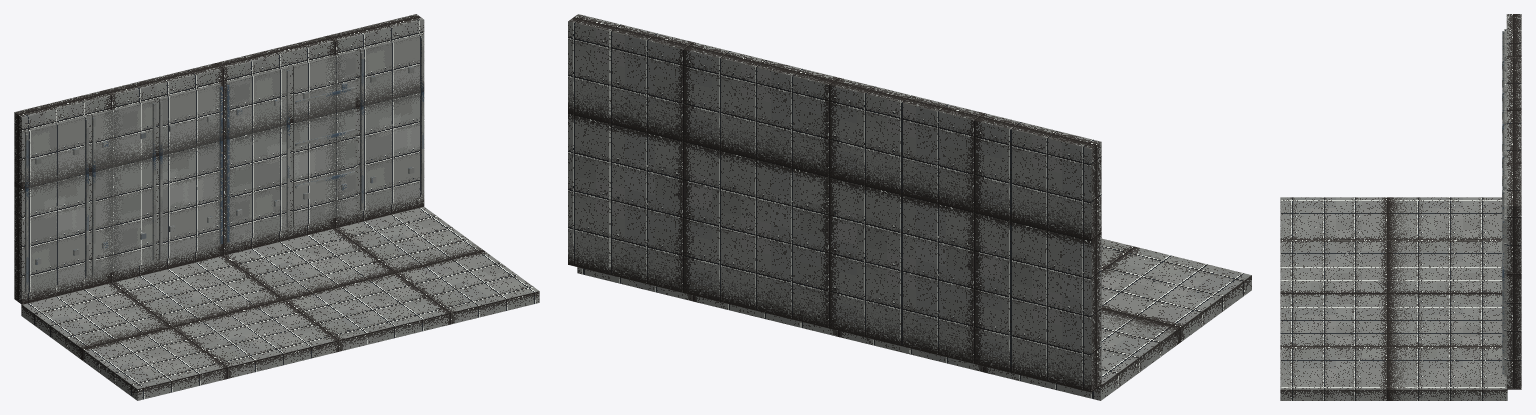
Rendered from secret_construction_seam.glb.
3 views of the same model, side by side, from view 1: azimuth 30°, elevation 25°; view 2: azimuth 150°, elevation 25°; view 3: azimuth 270°, elevation 25° (orthographic). The views are drawn at different scales.
Visible parts, largest first — view 1: secret_construction_seam; view 2: secret_construction_seam; view 3: secret_construction_seam.
Boxes of the visible parts, <box> form: secret_construction_seam: <box>14,14,539,400</box>; secret_construction_seam: <box>568,14,1251,400</box>; secret_construction_seam: <box>1280,14,1521,400</box>.
Bounding box in the file's own units: 7.2 × 3.4 × 3.82.
3 materials, 3 textured.
